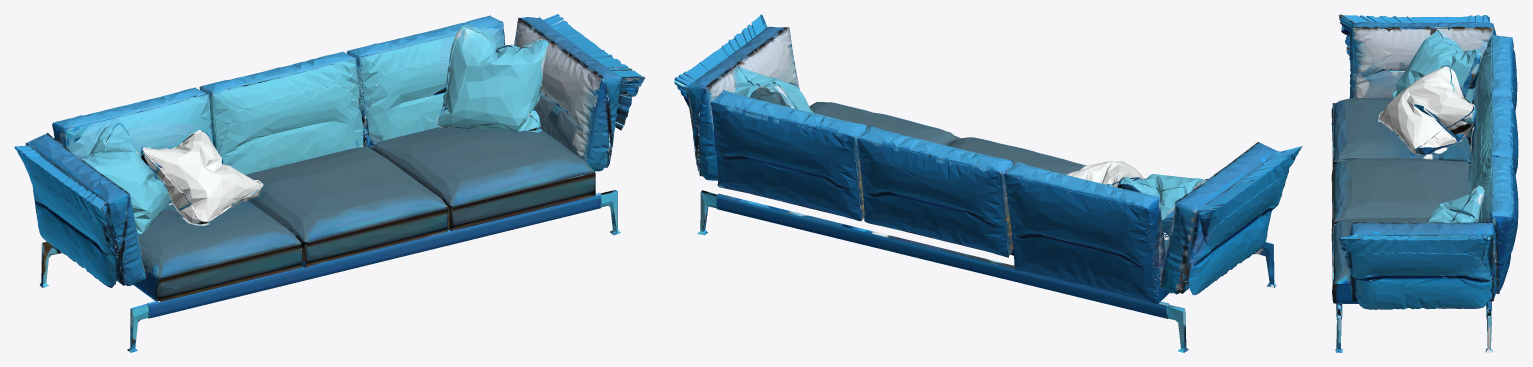
File: edited_mesh.glb
The picture shows the model from 3 angles, left to right: view 1: azimuth 30°, elevation 25°; view 2: azimuth 150°, elevation 25°; view 3: azimuth 270°, elevation 25°; orthographic projection. The views are drawn at different scales.
Parts seen in each view (by area): view 1: solid_001_wire; view 2: solid_001_wire; view 3: solid_001_wire.
Part boxes in pixels (bbox=[...]): solid_001_wire: bbox=[14, 14, 645, 352]; solid_001_wire: bbox=[674, 14, 1302, 352]; solid_001_wire: bbox=[1331, 14, 1518, 352].
Size of the model in its own units: 2 by 0.577 by 0.7051.
1 material, 1 textured.
